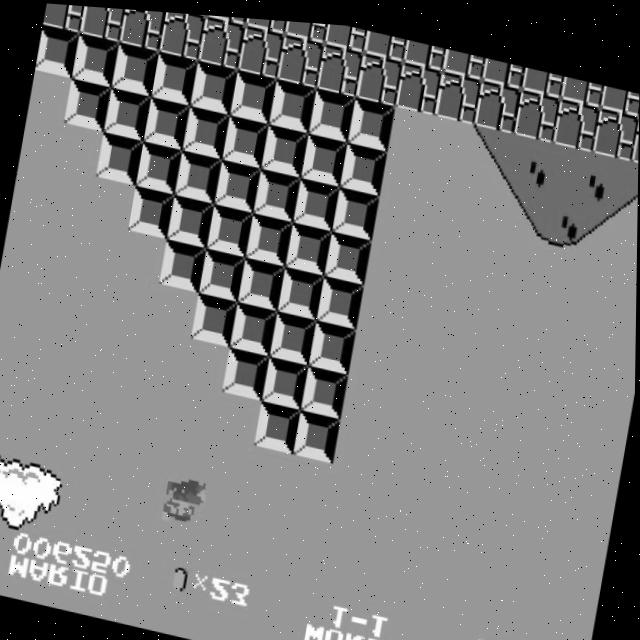11- little_mario: (159, 471, 210, 529)
17- undestructible_block: (197, 12, 246, 67), (276, 29, 325, 84), (355, 46, 404, 101), (434, 63, 483, 118), (473, 72, 522, 127), (513, 80, 562, 135), (237, 21, 285, 76), (316, 38, 364, 93), (395, 55, 443, 110), (553, 89, 601, 144), (592, 98, 639, 152), (157, 9, 206, 58), (119, 7, 167, 50), (79, 5, 127, 41), (403, 33, 447, 65), (481, 51, 526, 82), (560, 68, 605, 99), (363, 25, 407, 56), (442, 42, 486, 73), (521, 59, 565, 90), (43, 3, 87, 32), (599, 76, 640, 107), (324, 19, 368, 47), (284, 17, 328, 39), (245, 14, 289, 31), (205, 12, 249, 22)
9- hard_block: (64, 76, 113, 131), (111, 40, 160, 95), (143, 93, 192, 148), (150, 49, 199, 104), (182, 102, 231, 157), (191, 289, 240, 344), (229, 66, 278, 121), (261, 119, 310, 174), (262, 351, 311, 406), (270, 306, 319, 361), (285, 217, 334, 272), (308, 83, 357, 138), (301, 359, 350, 414), (309, 315, 358, 370), (340, 136, 389, 191), (95, 130, 144, 184), (103, 85, 152, 139), (127, 183, 176, 237), (159, 237, 208, 291), (174, 147, 223, 201), (206, 200, 255, 254), (238, 254, 287, 308), (253, 164, 302, 218), (317, 271, 366, 325), (324, 226, 373, 280), (332, 181, 381, 235), (72, 31, 120, 86), (167, 191, 215, 246), (190, 57, 238, 112), (222, 110, 270, 165), (223, 342, 271, 397), (246, 208, 294, 263), (269, 74, 317, 129), (301, 127, 349, 182), (348, 91, 396, 146), (254, 397, 303, 450), (135, 138, 183, 192), (199, 245, 247, 299), (231, 298, 279, 352), (278, 262, 326, 316), (294, 405, 342, 459), (214, 156, 262, 209), (293, 173, 341, 226), (35, 24, 80, 77)
